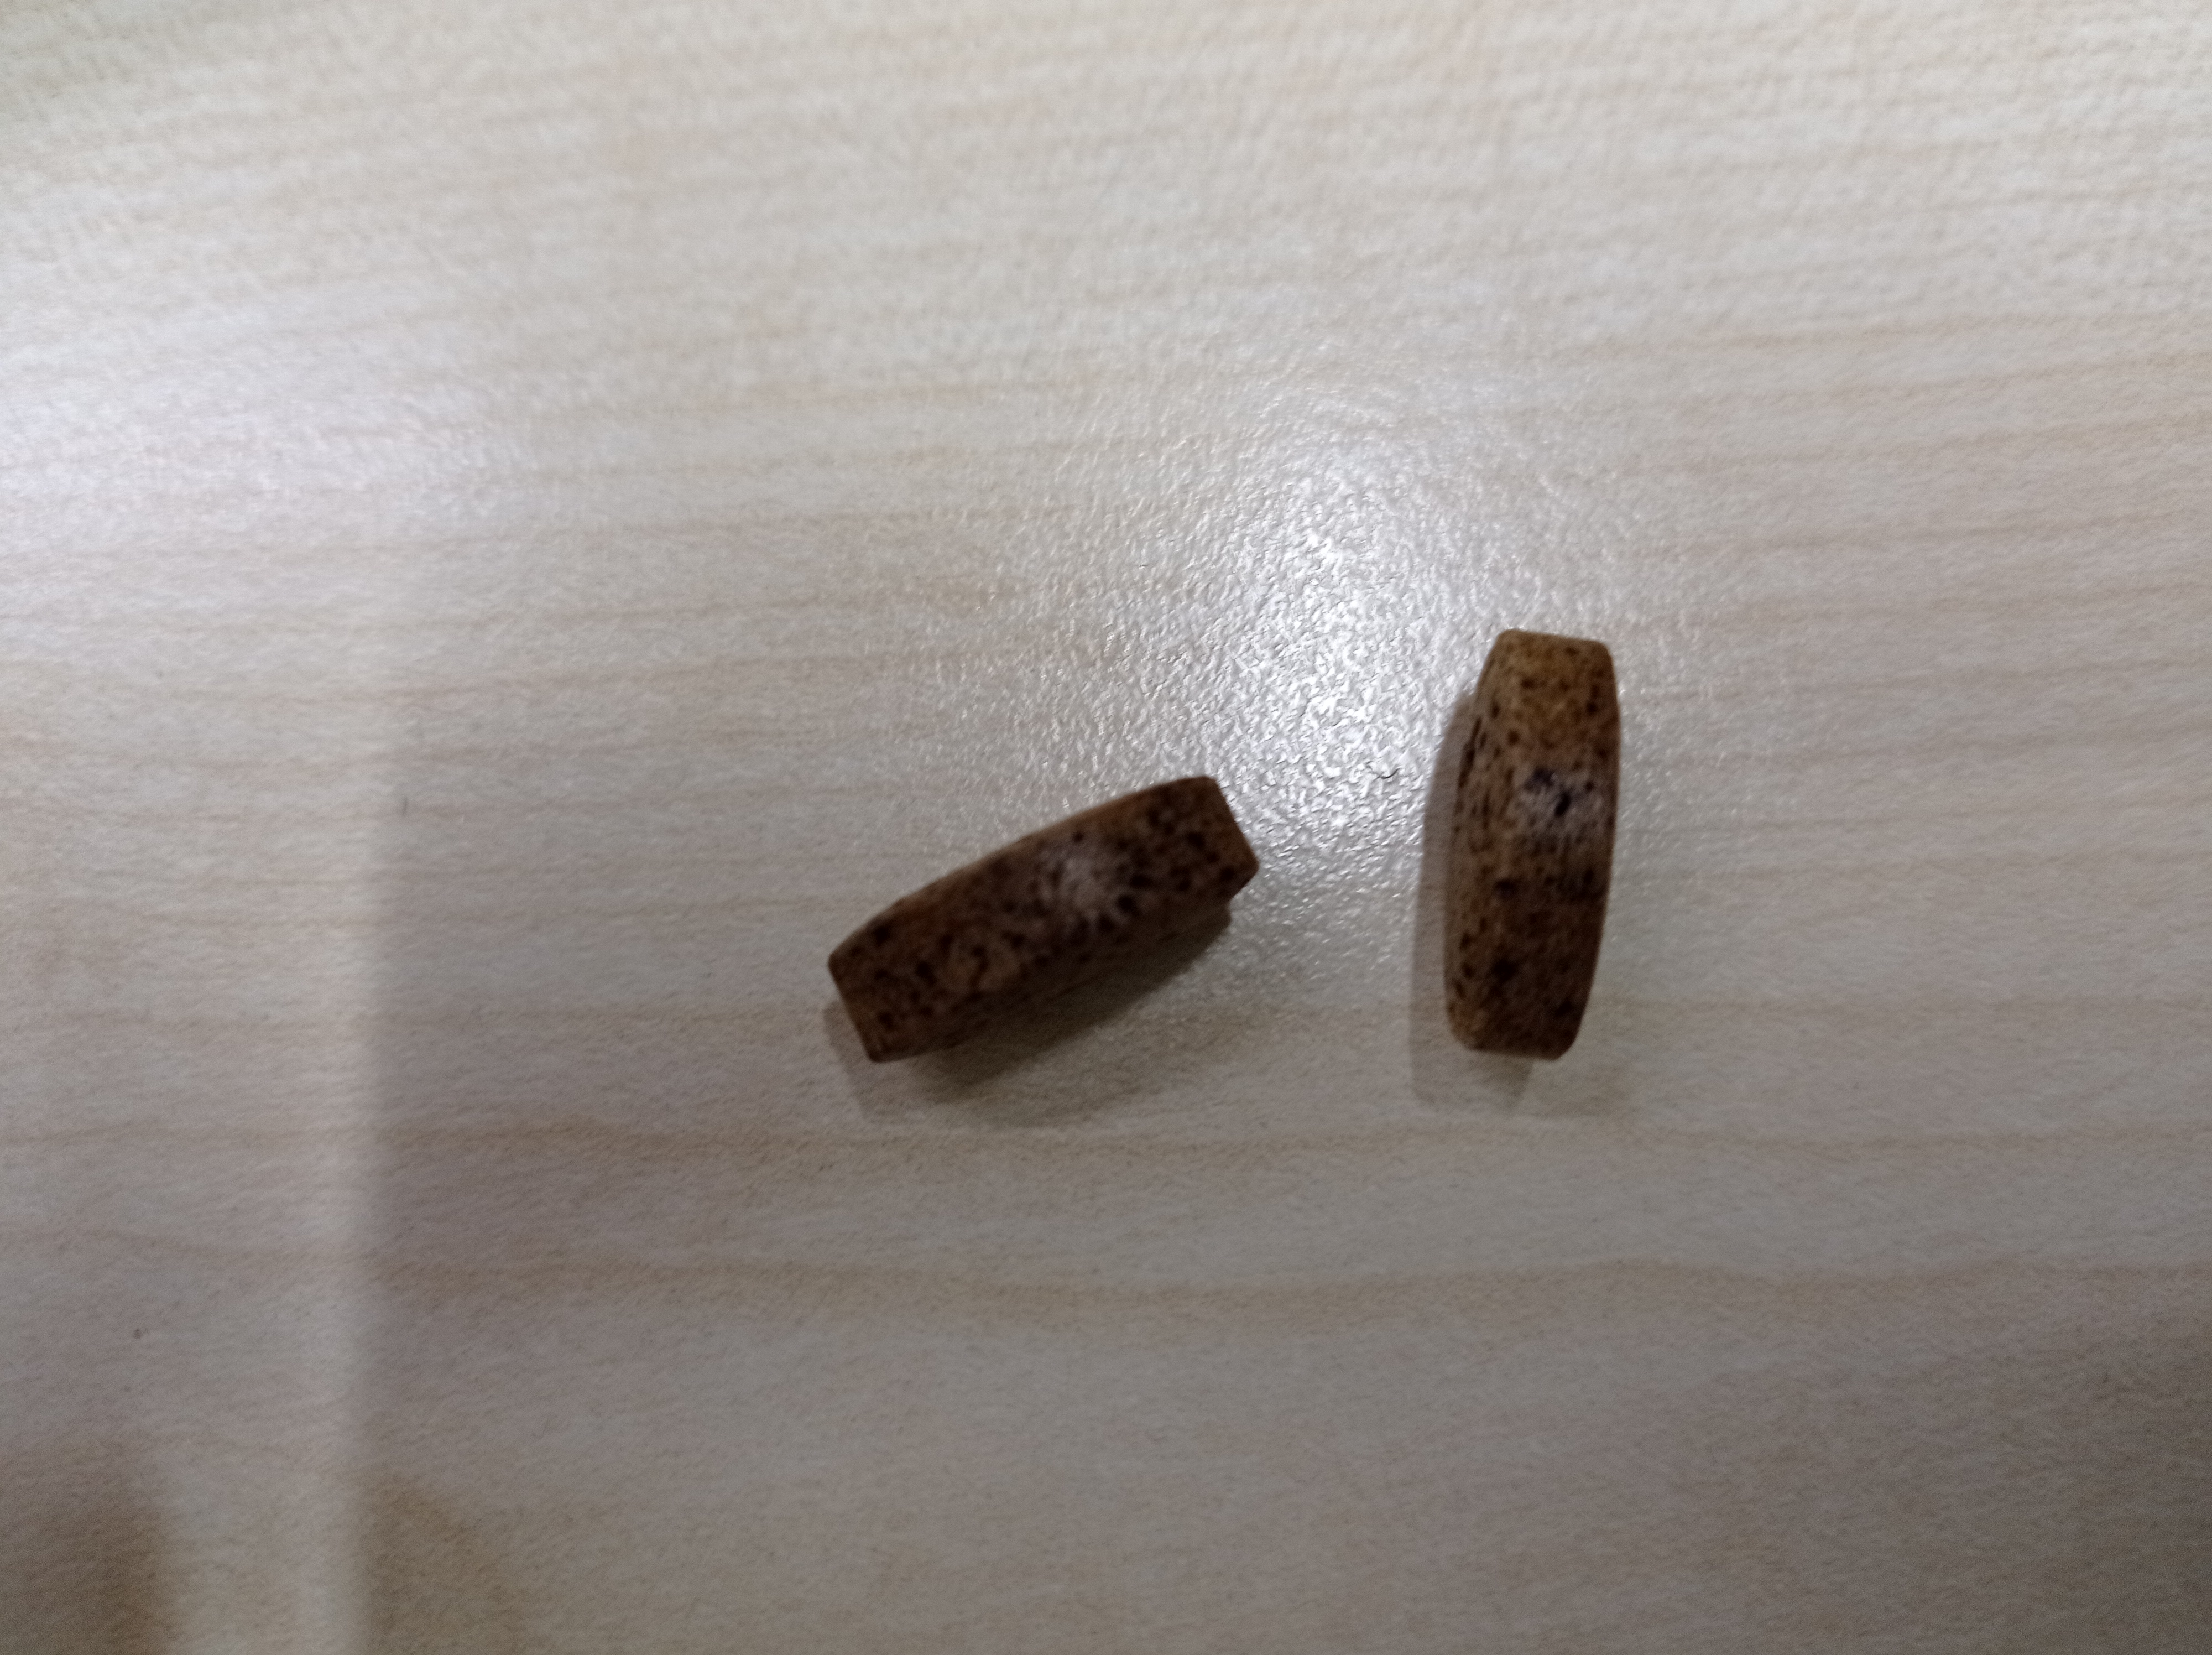brown_medicine: (824, 774, 1260, 1071), (1439, 629, 1628, 1059)
